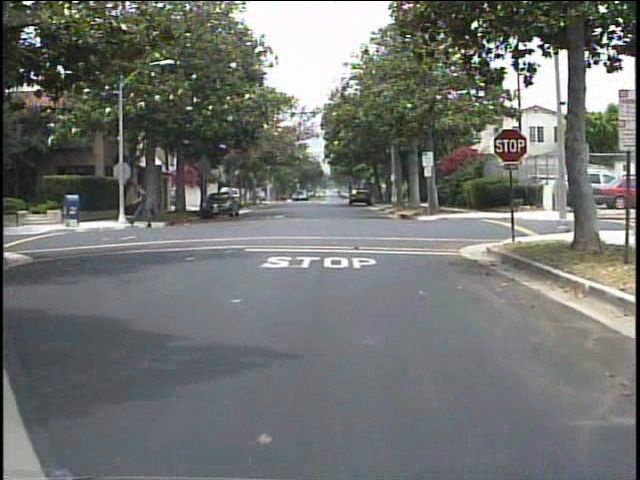person: (130, 178, 155, 233)
